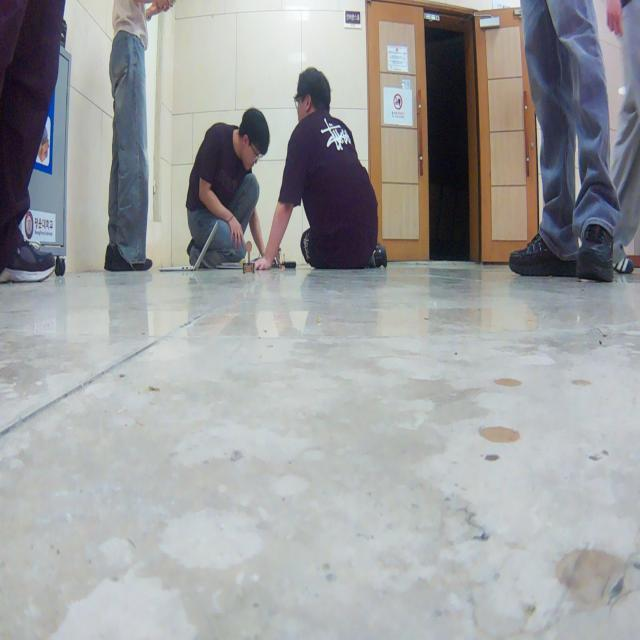target: (242, 240, 256, 274)
